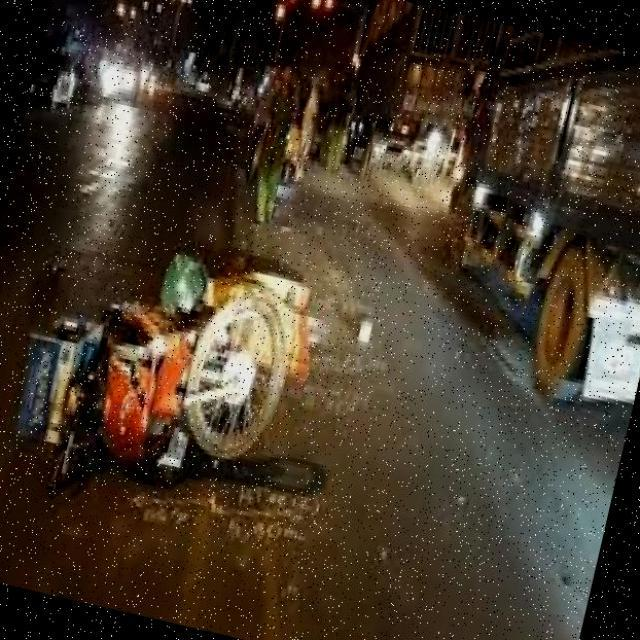accident: (0, 186, 390, 528)
